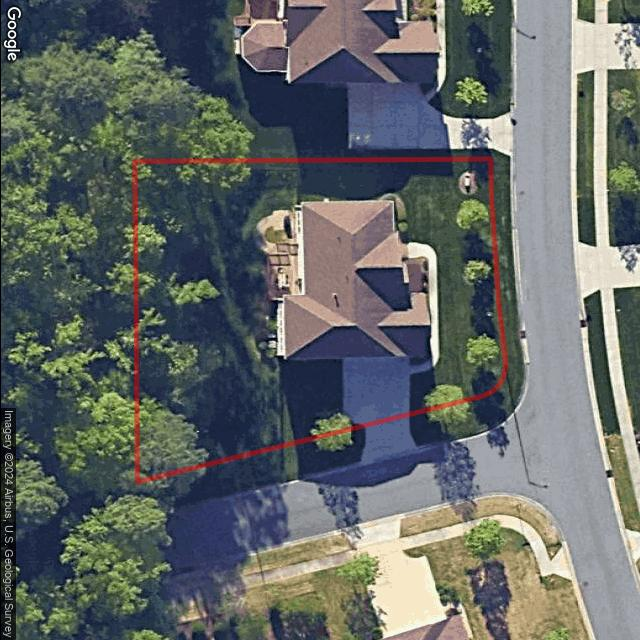Driveway: (342, 357, 409, 430)
Extra-Driveway: (358, 413, 417, 463)
Extra-Lawn: (409, 160, 523, 448), (135, 432, 358, 520)
House: (281, 201, 429, 360)
Lawn: (134, 159, 503, 483)
Other: (262, 212, 296, 296), (374, 192, 407, 238), (457, 171, 479, 194)
Sidewalk: (398, 242, 438, 376)
